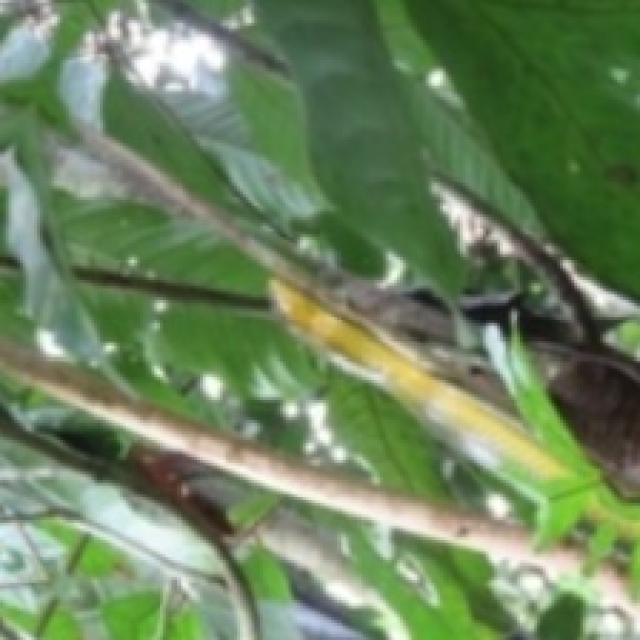red-tailed green ratsnake: (269, 274, 600, 503)
